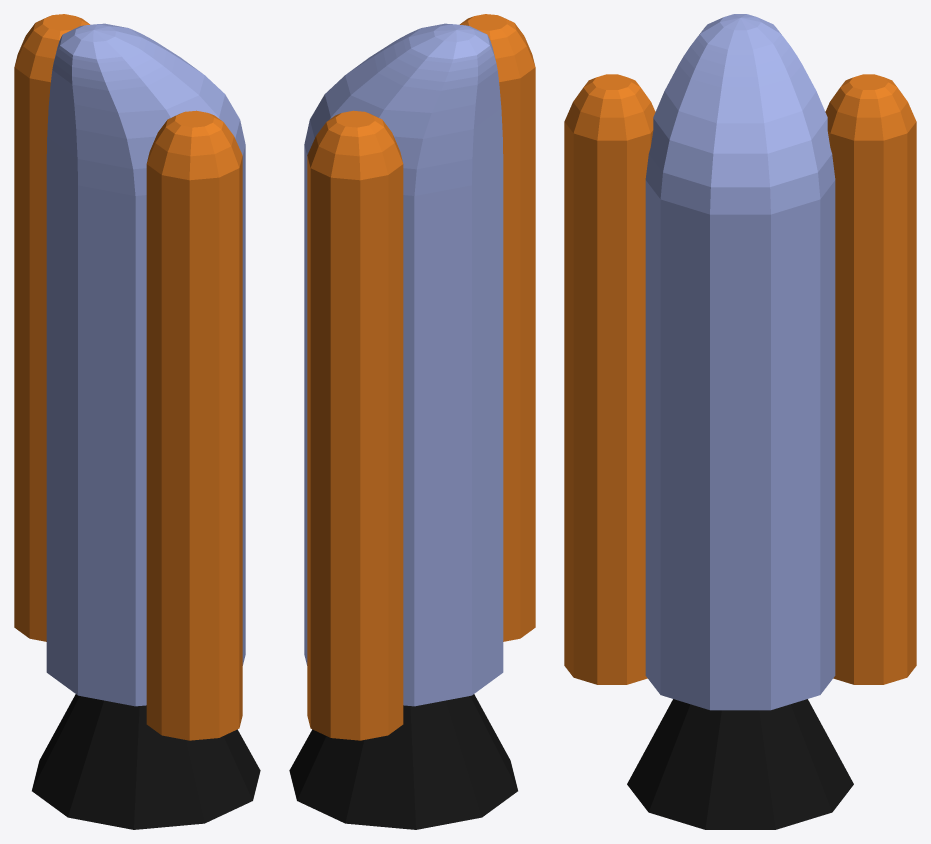
The model's file is Dropship.fbx.
The picture shows the model from 3 angles, left to right: view 1: azimuth 30°, elevation 25°; view 2: azimuth 150°, elevation 25°; view 3: azimuth 270°, elevation 25°; orthographic projection. The views are drawn at different scales.
Parts seen in each view (by area): view 1: Cylinder, Cylinder.002, Cylinder.001; view 2: Cylinder, Cylinder.001, Cylinder.002; view 3: Cylinder, Cylinder.001, Cylinder.002.
Part boxes in pixels (bbox=[...]): Cylinder: bbox=[32, 23, 260, 829]; Cylinder.002: bbox=[146, 110, 242, 740]; Cylinder.001: bbox=[14, 14, 89, 641]; Cylinder: bbox=[289, 23, 517, 829]; Cylinder.001: bbox=[307, 110, 403, 740]; Cylinder.002: bbox=[460, 14, 535, 641]; Cylinder: bbox=[627, 14, 853, 829]; Cylinder.001: bbox=[825, 74, 916, 684]; Cylinder.002: bbox=[564, 74, 655, 684].
Size of the model in its own units: 219 by 828 by 357.
